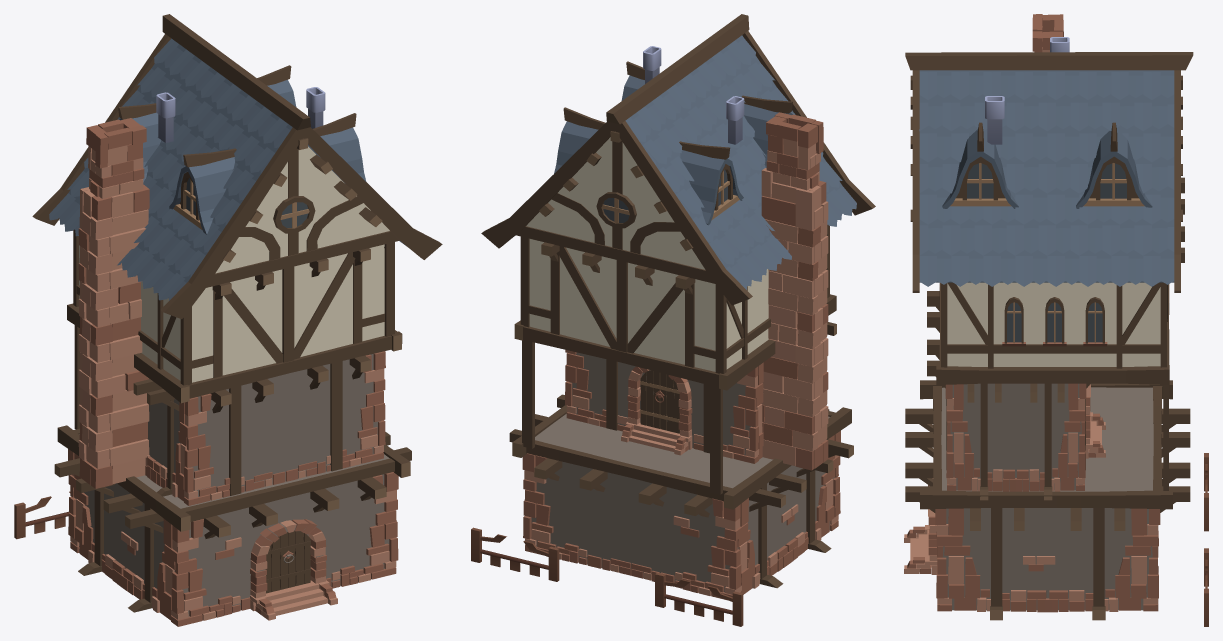
The model's file is london_house_3.glb.
The picture shows the model from 3 angles, left to right: view 1: azimuth 30°, elevation 25°; view 2: azimuth 150°, elevation 25°; view 3: azimuth 270°, elevation 25°; orthographic projection. The views are drawn at different scales.
Visible parts, largest first — view 1: House_2, House_4, chimney-top (×2), balcony-wall-fence; view 2: House_2, House_4, balcony-wall-fence (×2), chimney-top (×2); view 3: House_2, House_4, chimney-top.
Boxes of the visible parts, box(x1,y1,x2,y2) form: House_2: box(32, 14, 442, 505); House_4: box(54, 425, 411, 626); chimney-top (×2): box(156, 87, 325, 142); balcony-wall-fence: box(14, 491, 70, 539); House_2: box(481, 14, 875, 494); House_4: box(509, 394, 853, 599); balcony-wall-fence (×2): box(471, 527, 743, 626); chimney-top (×2): box(643, 46, 744, 144); House_2: box(905, 14, 1193, 500); House_4: box(904, 380, 1190, 620); chimney-top: box(985, 96, 1004, 144).
Size of the model in its own units: 14.21 by 23.17 by 12.67.
16 materials, 2 textured.
